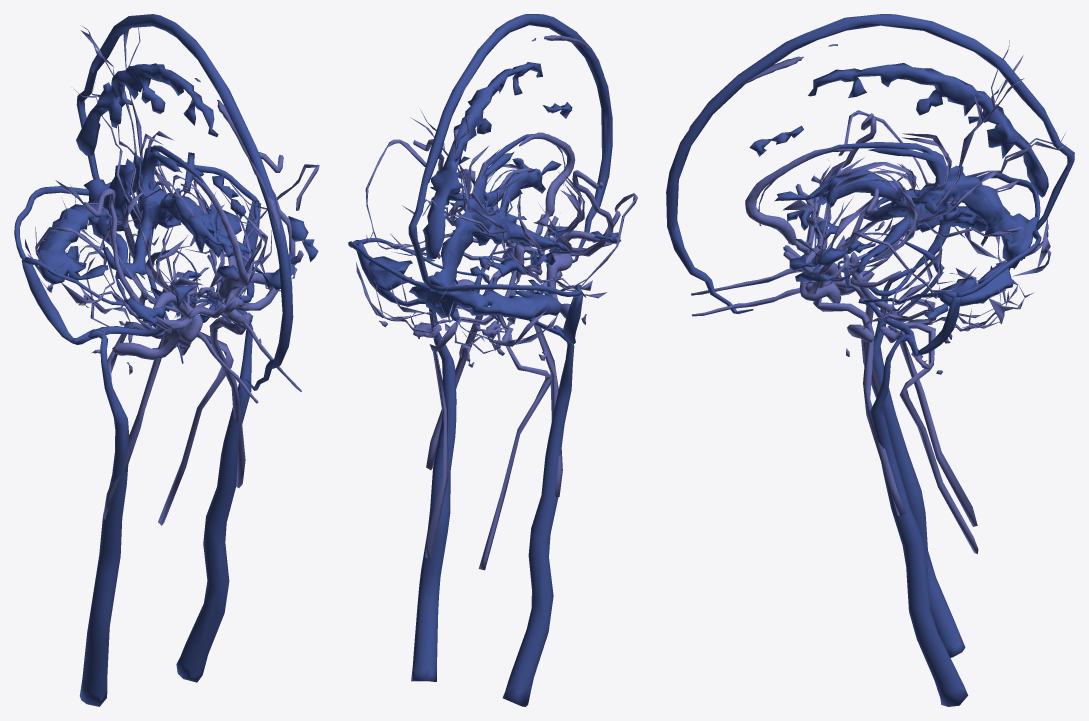
File: atlas_nervous_mni152.cardiovascular.LOD3.glb
3 renders of one model, left to right at view 1: azimuth 30°, elevation 25°; view 2: azimuth 150°, elevation 25°; view 3: azimuth 270°, elevation 25°, orthographic. The views are drawn at different scales.
Visible parts, largest first — view 1: ATLAS.NERVOUS.MNI152.CARDIOVASCULAR.CEREBRAL_VEINS_AND_SINUS, ATLAS.NERVOUS.MNI152.CARDIOVASCULAR.INTERNAL_JUGULAR_VEIN_LE, ATLAS.NERVOUS.MNI152.CARDIOVASCULAR.INTERNAL_JUGULAR_VEIN_RI, ATLAS.NERVOUS.MNI152.CARDIOVASCULAR.SUPERIOR_SAGITTAL_SINUS, ATLAS.NERVOUS.MNI152.CARDIOVASCULAR.CEREBRAL_ARTERIES_MRA_AT, ATLAS.NERVOUS.MNI152.CARDIOVASCULAR.INTERNAL_CAROTID_ARTERY. (×2), ATLAS.NERVOUS.MNI152.CARDIOVASCULAR.POSTERIOR_CEREBRAL_ARTER (×2), ATLAS.NERVOUS.MNI152.CARDIOVASCULAR.MIDDLE_CEREBRAL_ARTERY.R, ATLAS.NERVOUS.MNI152.CARDIOVASCULAR.MIDDLE_CEREBRAL_ARTERY.L, ATLAS.NERVOUS.MNI152.CARDIOVASCULAR.VERTEBRAL_ARTERY.L, ATLAS.NERVOUS.MNI152.CARDIOVASCULAR.LENTICULOSTRIATE_ARTERIE (×2), ATLAS.NERVOUS.MNI152.CARDIOVASCULAR.SIGMOID_SINUS_RIGHT.R (+8 smaller); view 2: ATLAS.NERVOUS.MNI152.CARDIOVASCULAR.CEREBRAL_VEINS_AND_SINUS, ATLAS.NERVOUS.MNI152.CARDIOVASCULAR.INTERNAL_JUGULAR_VEIN_RI, ATLAS.NERVOUS.MNI152.CARDIOVASCULAR.SUPERIOR_SAGITTAL_SINUS, ATLAS.NERVOUS.MNI152.CARDIOVASCULAR.INTERNAL_JUGULAR_VEIN_LE, ATLAS.NERVOUS.MNI152.CARDIOVASCULAR.CEREBRAL_ARTERIES_MRA_AT, ATLAS.NERVOUS.MNI152.CARDIOVASCULAR.POSTERIOR_CEREBRAL_ARTER (×2), ATLAS.NERVOUS.MNI152.CARDIOVASCULAR.INTERNAL_CAROTID_ARTERY. (×2), ATLAS.NERVOUS.MNI152.CARDIOVASCULAR.POSTERIOR_INFERIOR_CEREB (×2), ATLAS.NERVOUS.MNI152.CARDIOVASCULAR.VERTEBRAL_ARTERY.L, ATLAS.NERVOUS.MNI152.CARDIOVASCULAR.VERTEBRAL_ARTERY.R, ATLAS.NERVOUS.MNI152.CARDIOVASCULAR.MIDDLE_CEREBRAL_ARTERY.R, ATLAS.NERVOUS.MNI152.CARDIOVASCULAR.TRANSVERSE_SINUS_RIGHT.R (+7 smaller); view 3: ATLAS.NERVOUS.MNI152.CARDIOVASCULAR.CEREBRAL_VEINS_AND_SINUS, ATLAS.NERVOUS.MNI152.CARDIOVASCULAR.SUPERIOR_SAGITTAL_SINUS, ATLAS.NERVOUS.MNI152.CARDIOVASCULAR.INTERNAL_JUGULAR_VEIN_LE, ATLAS.NERVOUS.MNI152.CARDIOVASCULAR.POSTERIOR_CEREBRAL_ARTER (×2), ATLAS.NERVOUS.MNI152.CARDIOVASCULAR.CEREBRAL_ARTERIES_MRA_AT, ATLAS.NERVOUS.MNI152.CARDIOVASCULAR.INTERNAL_JUGULAR_VEIN_RI, ATLAS.NERVOUS.MNI152.CARDIOVASCULAR.INTERNAL_CAROTID_ARTERY. (×2), ATLAS.NERVOUS.MNI152.CARDIOVASCULAR.VERTEBRAL_ARTERY.L, ATLAS.NERVOUS.MNI152.CARDIOVASCULAR.VERTEBRAL_ARTERY.R, ATLAS.NERVOUS.MNI152.CARDIOVASCULAR.MIDDLE_CEREBRAL_ARTERY.L, ATLAS.NERVOUS.MNI152.CARDIOVASCULAR.MIDDLE_CEREBRAL_ARTERY.R, ATLAS.NERVOUS.MNI152.CARDIOVASCULAR.POSTERIOR_INFERIOR_CEREB (+5 smaller).
Boxes of the visible parts, x1,y1,x2,y2 form: ATLAS.NERVOUS.MNI152.CARDIOVASCULAR.CEREBRAL_VEINS_AND_SINUS: (37, 63, 318, 328); ATLAS.NERVOUS.MNI152.CARDIOVASCULAR.INTERNAL_JUGULAR_VEIN_LE: (176, 297, 253, 682); ATLAS.NERVOUS.MNI152.CARDIOVASCULAR.INTERNAL_JUGULAR_VEIN_RI: (79, 329, 129, 706); ATLAS.NERVOUS.MNI152.CARDIOVASCULAR.SUPERIOR_SAGITTAL_SINUS: (76, 14, 293, 390); ATLAS.NERVOUS.MNI152.CARDIOVASCULAR.CEREBRAL_ARTERIES_MRA_AT: (91, 78, 297, 374); ATLAS.NERVOUS.MNI152.CARDIOVASCULAR.INTERNAL_CAROTID_ARTERY. (×2): (103, 191, 299, 519); ATLAS.NERVOUS.MNI152.CARDIOVASCULAR.POSTERIOR_CEREBRAL_ARTER (×2): (55, 26, 280, 335); ATLAS.NERVOUS.MNI152.CARDIOVASCULAR.MIDDLE_CEREBRAL_ARTERY.R: (35, 188, 190, 330); ATLAS.NERVOUS.MNI152.CARDIOVASCULAR.MIDDLE_CEREBRAL_ARTERY.L: (228, 152, 319, 310); ATLAS.NERVOUS.MNI152.CARDIOVASCULAR.VERTEBRAL_ARTERY.L: (158, 314, 233, 525); ATLAS.NERVOUS.MNI152.CARDIOVASCULAR.LENTICULOSTRIATE_ARTERIE (×2): (139, 199, 267, 308); ATLAS.NERVOUS.MNI152.CARDIOVASCULAR.SIGMOID_SINUS_RIGHT.R: (21, 257, 72, 342); ATLAS.NERVOUS.MNI152.CARDIOVASCULAR.CEREBRAL_VEINS_AND_SINUS: (368, 62, 619, 321); ATLAS.NERVOUS.MNI152.CARDIOVASCULAR.INTERNAL_JUGULAR_VEIN_RI: (502, 325, 574, 706); ATLAS.NERVOUS.MNI152.CARDIOVASCULAR.SUPERIOR_SAGITTAL_SINUS: (408, 14, 612, 287); ATLAS.NERVOUS.MNI152.CARDIOVASCULAR.INTERNAL_JUGULAR_VEIN_LE: (411, 298, 456, 681); ATLAS.NERVOUS.MNI152.CARDIOVASCULAR.CEREBRAL_ARTERIES_MRA_AT: (379, 35, 620, 367); ATLAS.NERVOUS.MNI152.CARDIOVASCULAR.POSTERIOR_CEREBRAL_ARTER (×2): (385, 109, 606, 298); ATLAS.NERVOUS.MNI152.CARDIOVASCULAR.INTERNAL_CAROTID_ARTERY. (×2): (426, 171, 612, 496); ATLAS.NERVOUS.MNI152.CARDIOVASCULAR.POSTERIOR_INFERIOR_CEREB (×2): (356, 262, 558, 353); ATLAS.NERVOUS.MNI152.CARDIOVASCULAR.VERTEBRAL_ARTERY.L: (425, 315, 496, 557); ATLAS.NERVOUS.MNI152.CARDIOVASCULAR.VERTEBRAL_ARTERY.R: (478, 315, 552, 570); ATLAS.NERVOUS.MNI152.CARDIOVASCULAR.MIDDLE_CEREBRAL_ARTERY.R: (550, 170, 637, 291); ATLAS.NERVOUS.MNI152.CARDIOVASCULAR.TRANSVERSE_SINUS_RIGHT.R: (429, 284, 581, 296); ATLAS.NERVOUS.MNI152.CARDIOVASCULAR.CEREBRAL_VEINS_AND_SINUS: (749, 63, 1048, 318); ATLAS.NERVOUS.MNI152.CARDIOVASCULAR.SUPERIOR_SAGITTAL_SINUS: (666, 14, 1074, 314); ATLAS.NERVOUS.MNI152.CARDIOVASCULAR.INTERNAL_JUGULAR_VEIN_LE: (870, 334, 968, 706); ATLAS.NERVOUS.MNI152.CARDIOVASCULAR.POSTERIOR_CEREBRAL_ARTER (×2): (822, 40, 1066, 329); ATLAS.NERVOUS.MNI152.CARDIOVASCULAR.CEREBRAL_ARTERIES_MRA_AT: (684, 44, 970, 374); ATLAS.NERVOUS.MNI152.CARDIOVASCULAR.INTERNAL_JUGULAR_VEIN_RI: (872, 268, 965, 657); ATLAS.NERVOUS.MNI152.CARDIOVASCULAR.INTERNAL_CAROTID_ARTERY. (×2): (691, 157, 910, 515); ATLAS.NERVOUS.MNI152.CARDIOVASCULAR.VERTEBRAL_ARTERY.L: (890, 310, 978, 553); ATLAS.NERVOUS.MNI152.CARDIOVASCULAR.VERTEBRAL_ARTERY.R: (895, 298, 977, 526); ATLAS.NERVOUS.MNI152.CARDIOVASCULAR.MIDDLE_CEREBRAL_ARTERY.L: (800, 188, 976, 298); ATLAS.NERVOUS.MNI152.CARDIOVASCULAR.MIDDLE_CEREBRAL_ARTERY.R: (795, 110, 931, 255); ATLAS.NERVOUS.MNI152.CARDIOVASCULAR.POSTERIOR_INFERIOR_CEREB: (926, 233, 1050, 331).
Size of the model in its own units: 0.1329 by 0.3291 by 0.1829.
